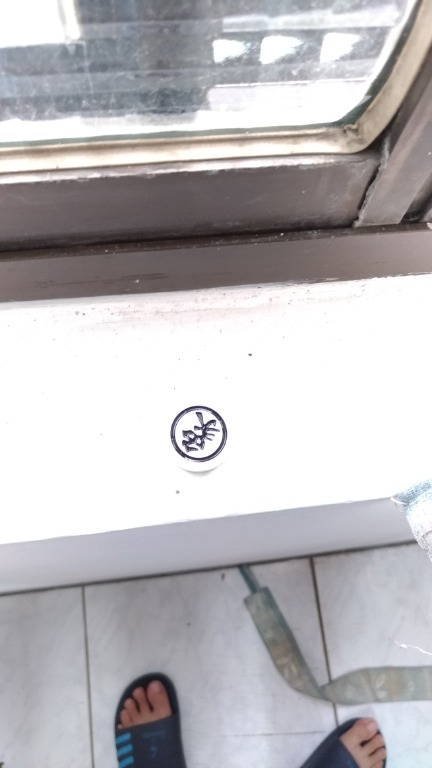b-elephant: (157, 386, 252, 493)
